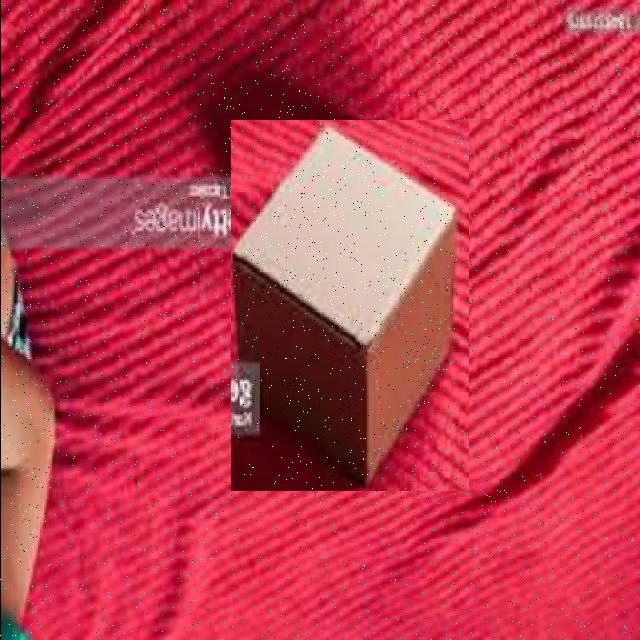normal: (230, 120, 468, 491)
